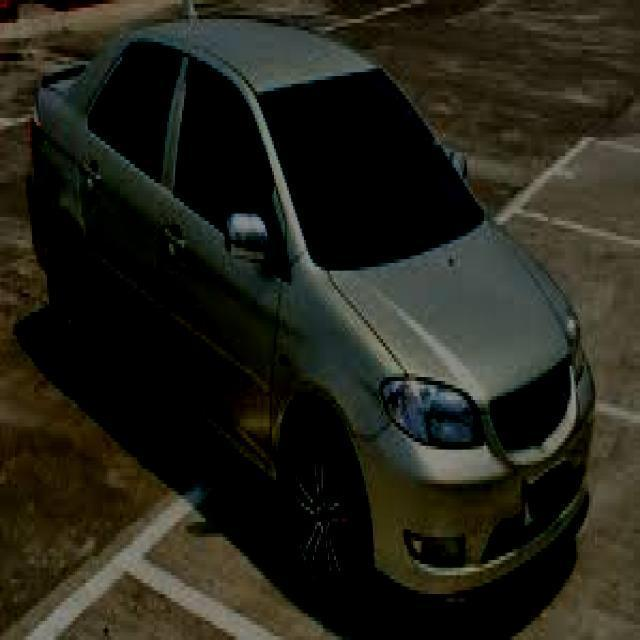ToyotaVios: (22, 14, 597, 608)
